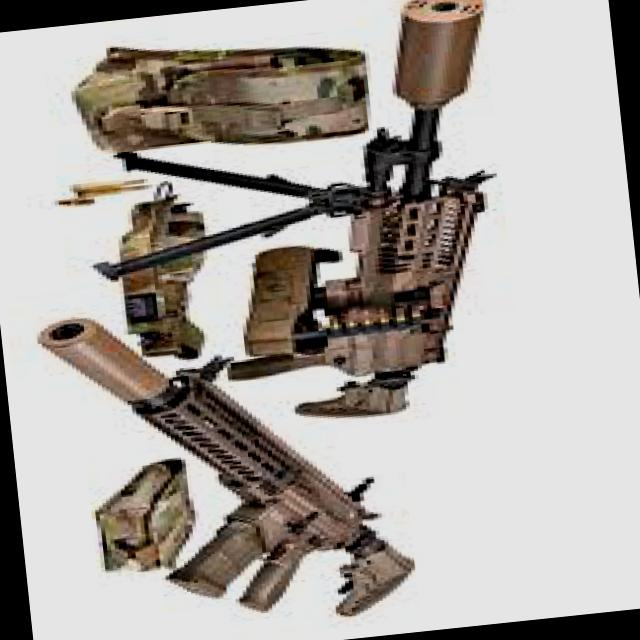long weapon: (225, 0, 518, 434)
